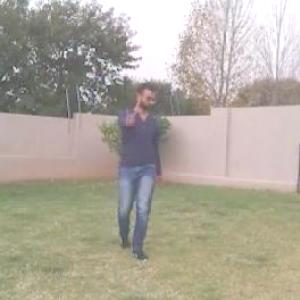takeoff-hand: (116, 104, 143, 134)
